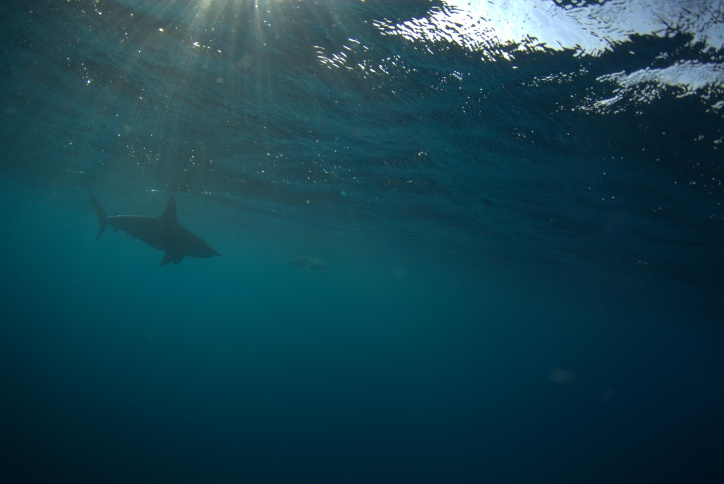Hammer: (47, 172, 251, 283)
